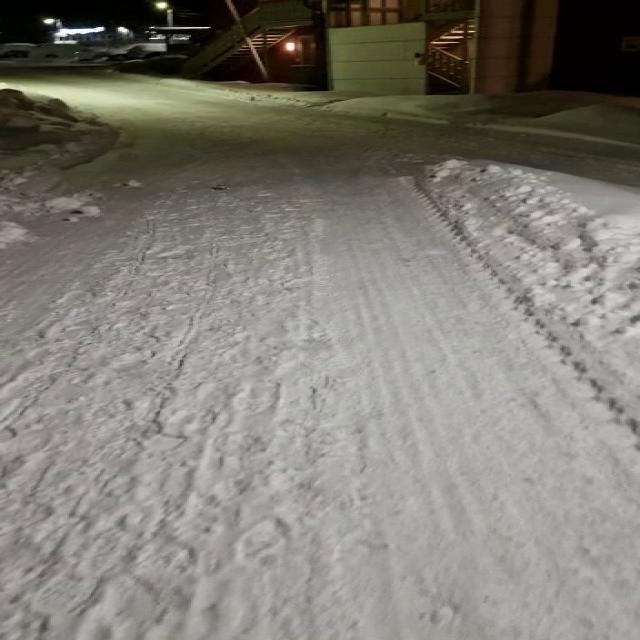path: (2, 69, 638, 640)
